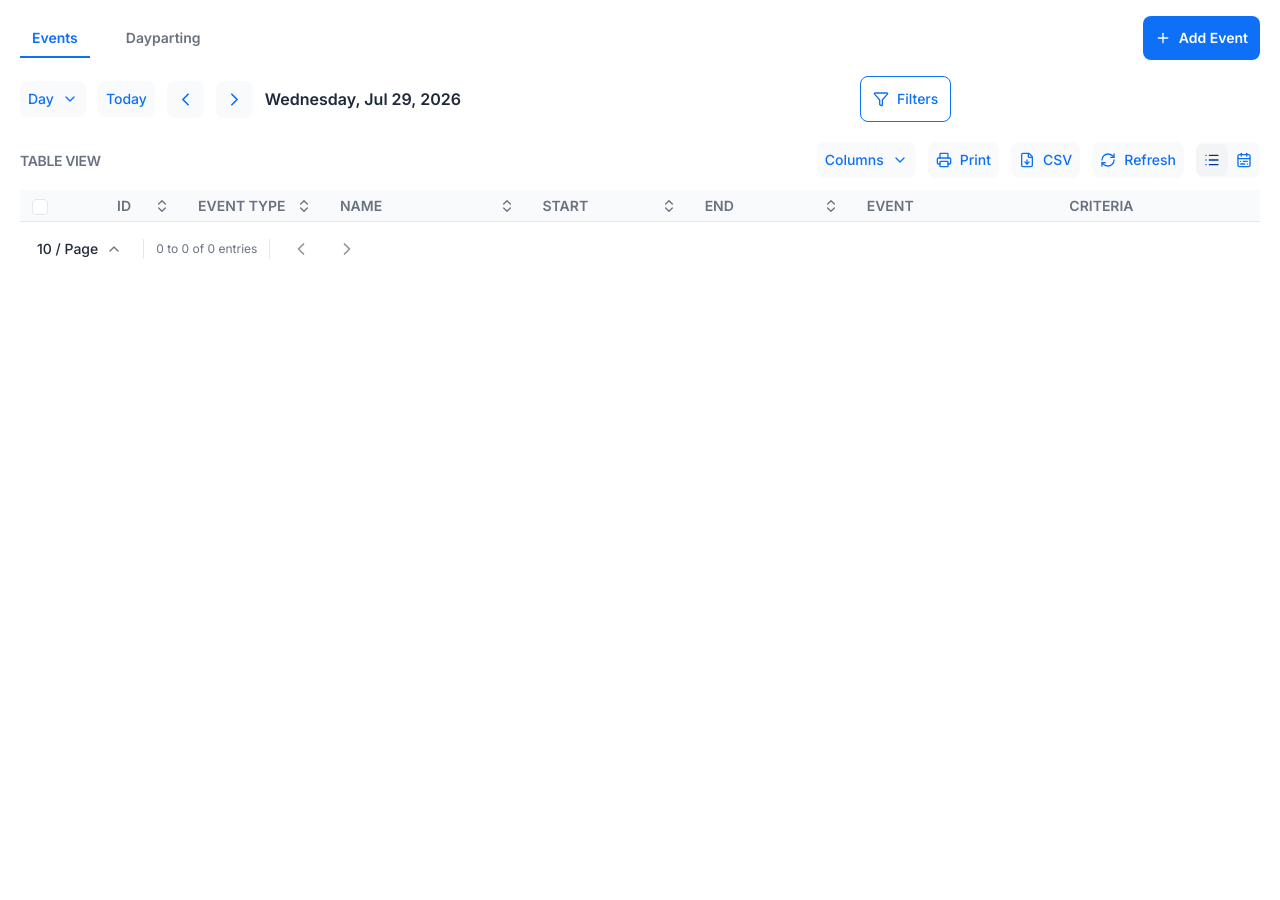
Test: Events page – calendar view toggle › loading overlay appears while calendar data is fetching
Click the button titled "Calendar View" at [1244, 160], box [1228,144,1260,176]
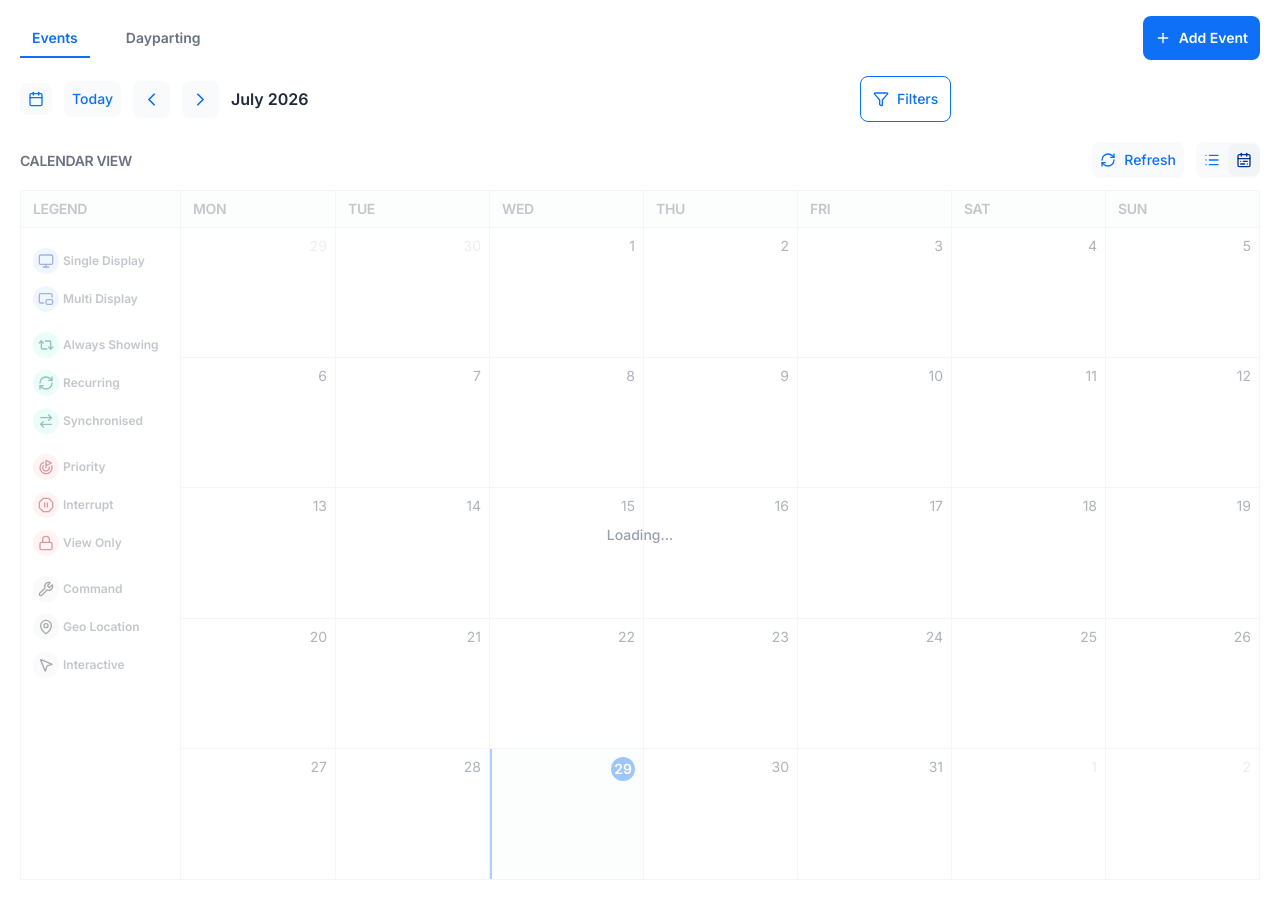
Expected: the message "Loading..." is shown
